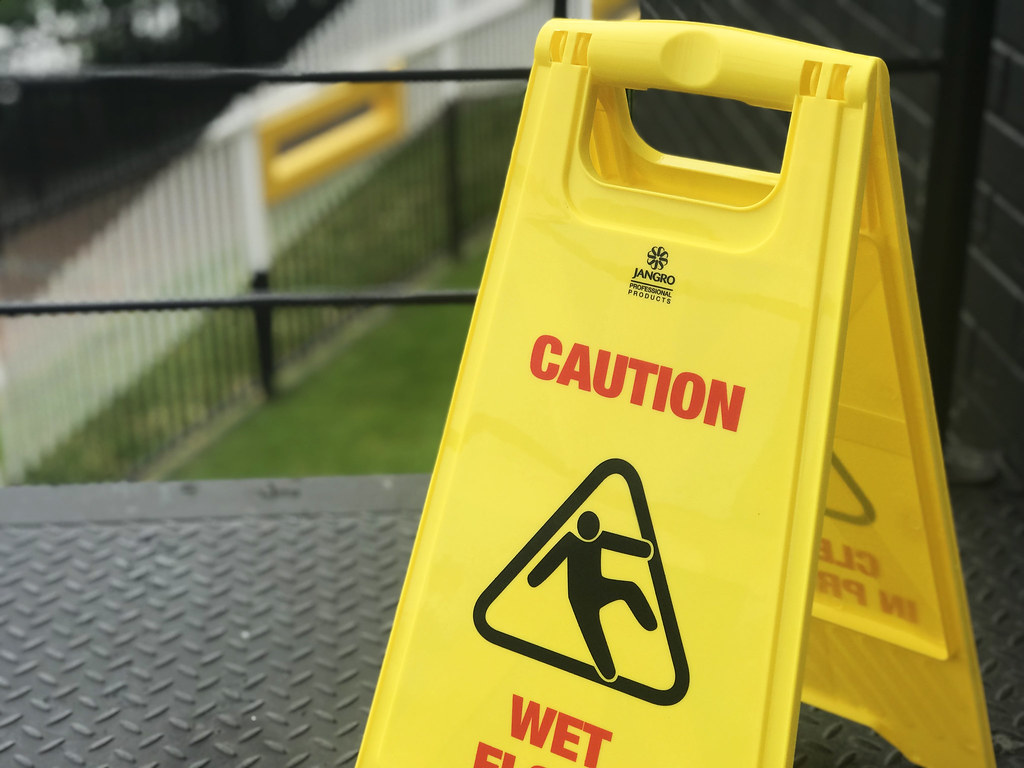wet caution sign: (384, 24, 969, 768)
